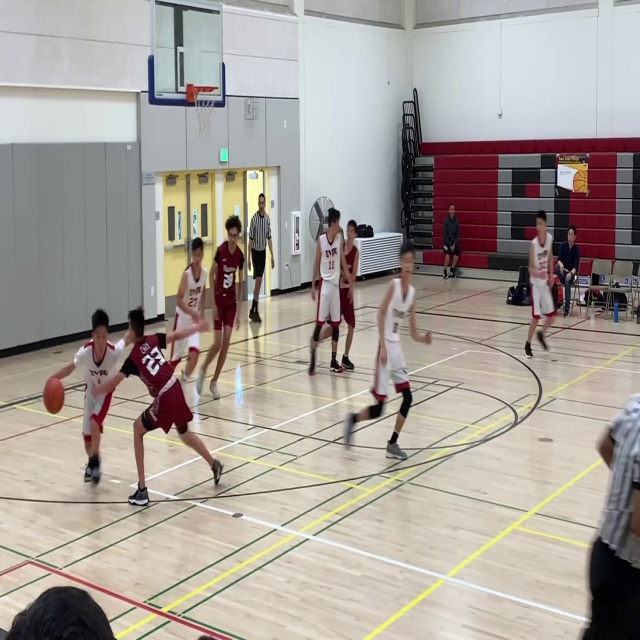Basketball: (43, 376, 64, 415)
